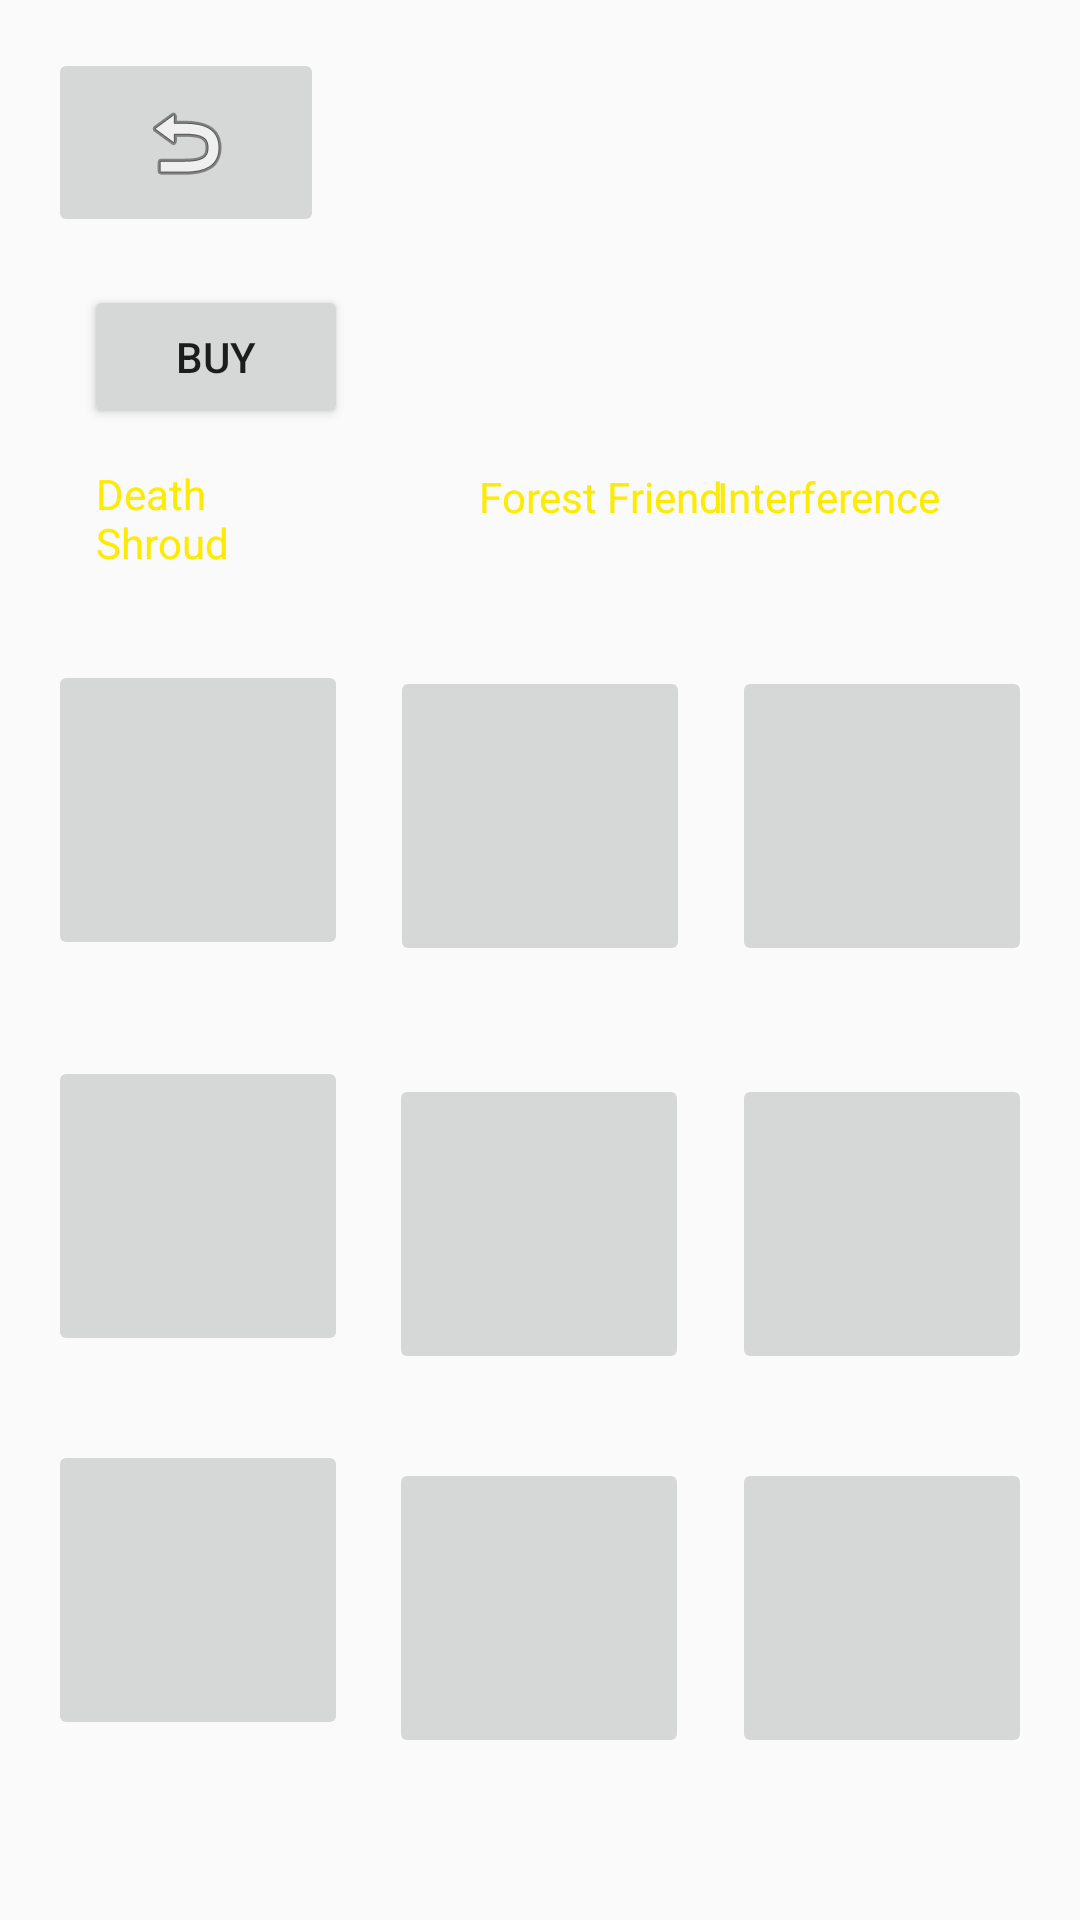

Named icons in this screenshot (1080px x 1920px) and their bounding boxes, {"left": x1, "top": y1, "right": x2, "bottom": y2}:
revert: {"left": 60, "top": 66, "right": 312, "bottom": 219}
